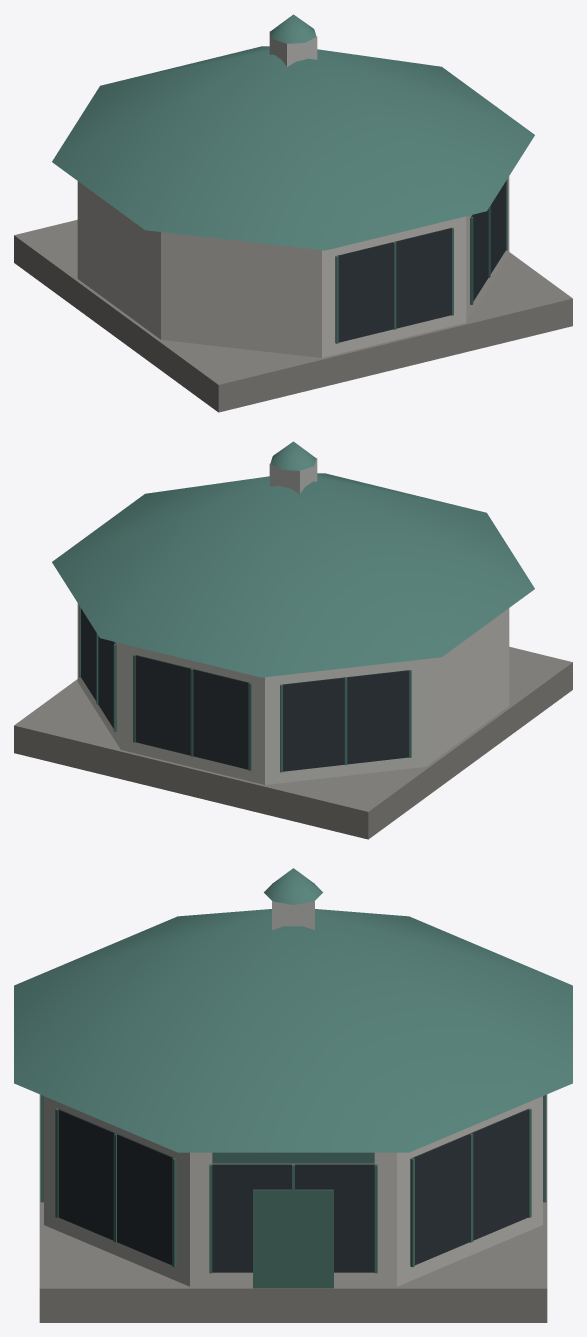
File: SM_Prop_cafe_building_14.glb
3 renders of one model, top to bottom at view 1: azimuth 30°, elevation 25°; view 2: azimuth 150°, elevation 25°; view 3: azimuth 270°, elevation 25°, orthographic. The views are drawn at different scales.
Visible parts, largest first — view 1: SM_Prop_cafe_building_14; view 2: SM_Prop_cafe_building_14; view 3: SM_Prop_cafe_building_14.
Part boxes in pixels (left/top/right/bottom): SM_Prop_cafe_building_14: left=14, top=14, right=572, bottom=412; SM_Prop_cafe_building_14: left=14, top=441, right=572, bottom=839; SM_Prop_cafe_building_14: left=14, top=868, right=572, bottom=1322.
Size of the model in its own units: 10.35 by 7.1 by 10.35.
